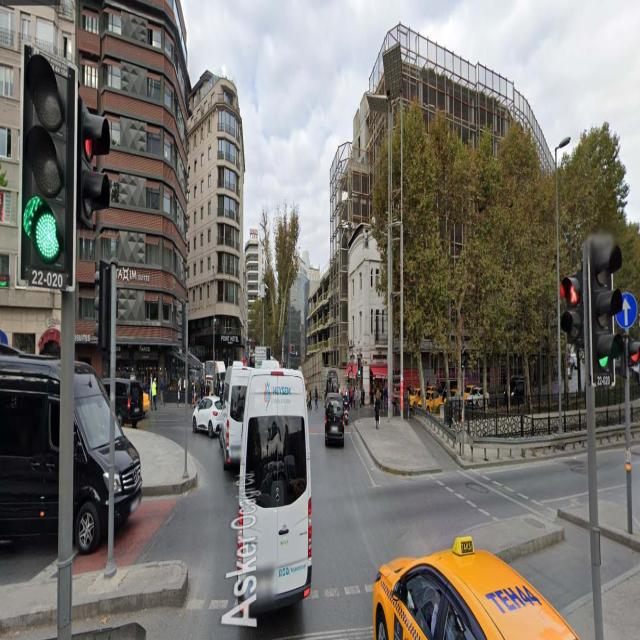yesil: (22, 44, 70, 285), (585, 236, 613, 384)
